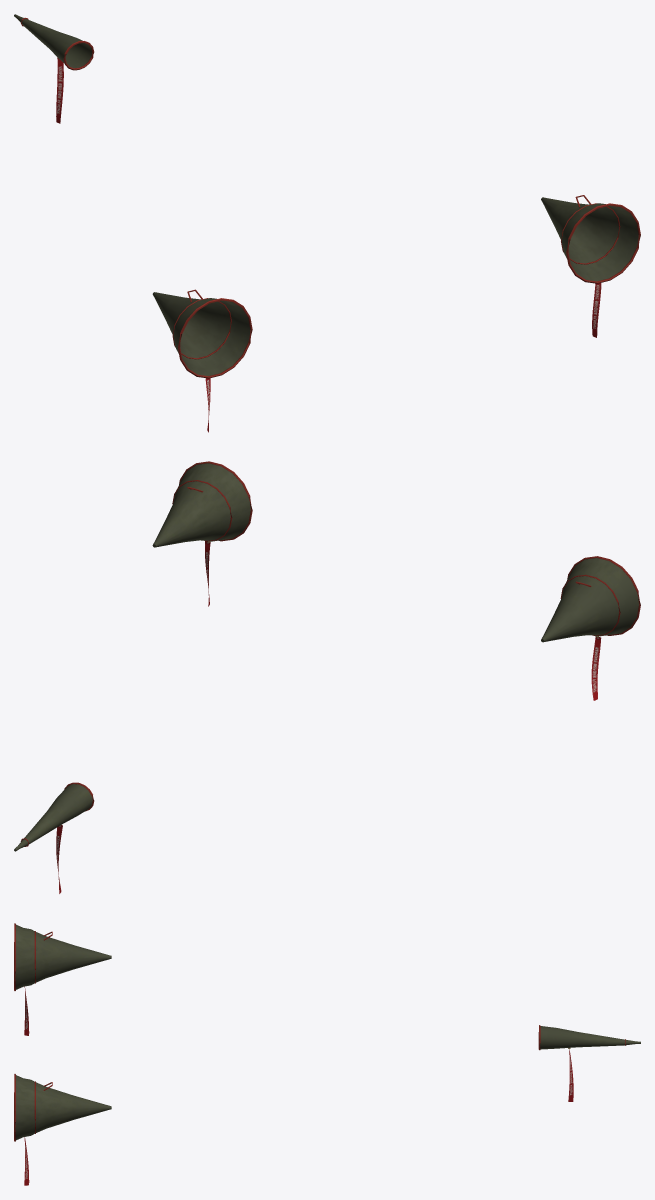
The model's file is aircraft_covers_garza.glb.
The picture shows the model from 3 angles, top to bottom: view 1: azimuth 30°, elevation 25°; view 2: azimuth 150°, elevation 25°; view 3: azimuth 270°, elevation 25°; orthographic projection. The views are drawn at different scales.
Visible parts, largest first — view 1: cover_intake_r, cover_intake_l, cover_nose; view 2: cover_intake_l, cover_intake_r, cover_nose; view 3: cover_intake_r, cover_intake_l, cover_nose.
Part boxes in pixels (left/top/right/bottom): cover_intake_r: left=541, top=195, right=640, bottom=337; cover_intake_l: left=152, top=289, right=252, bottom=432; cover_nose: left=14, top=14, right=94, bottom=123; cover_intake_l: left=541, top=556, right=640, bottom=700; cover_intake_r: left=152, top=461, right=252, bottom=606; cover_nose: left=14, top=782, right=94, bottom=893; cover_intake_r: left=14, top=1074, right=111, bottom=1185; cover_intake_l: left=14, top=923, right=111, bottom=1035; cover_nose: left=538, top=1025, right=640, bottom=1101.
Bounding box in the file's own units: 10.02 × 2.84 × 14.79.
1 material, 1 textured.
